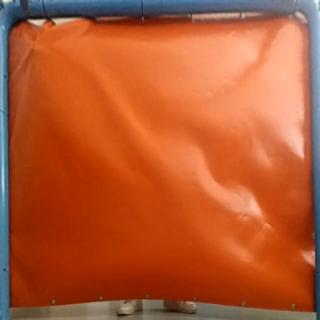Hit-hRxx: (26, 44, 40, 55)
